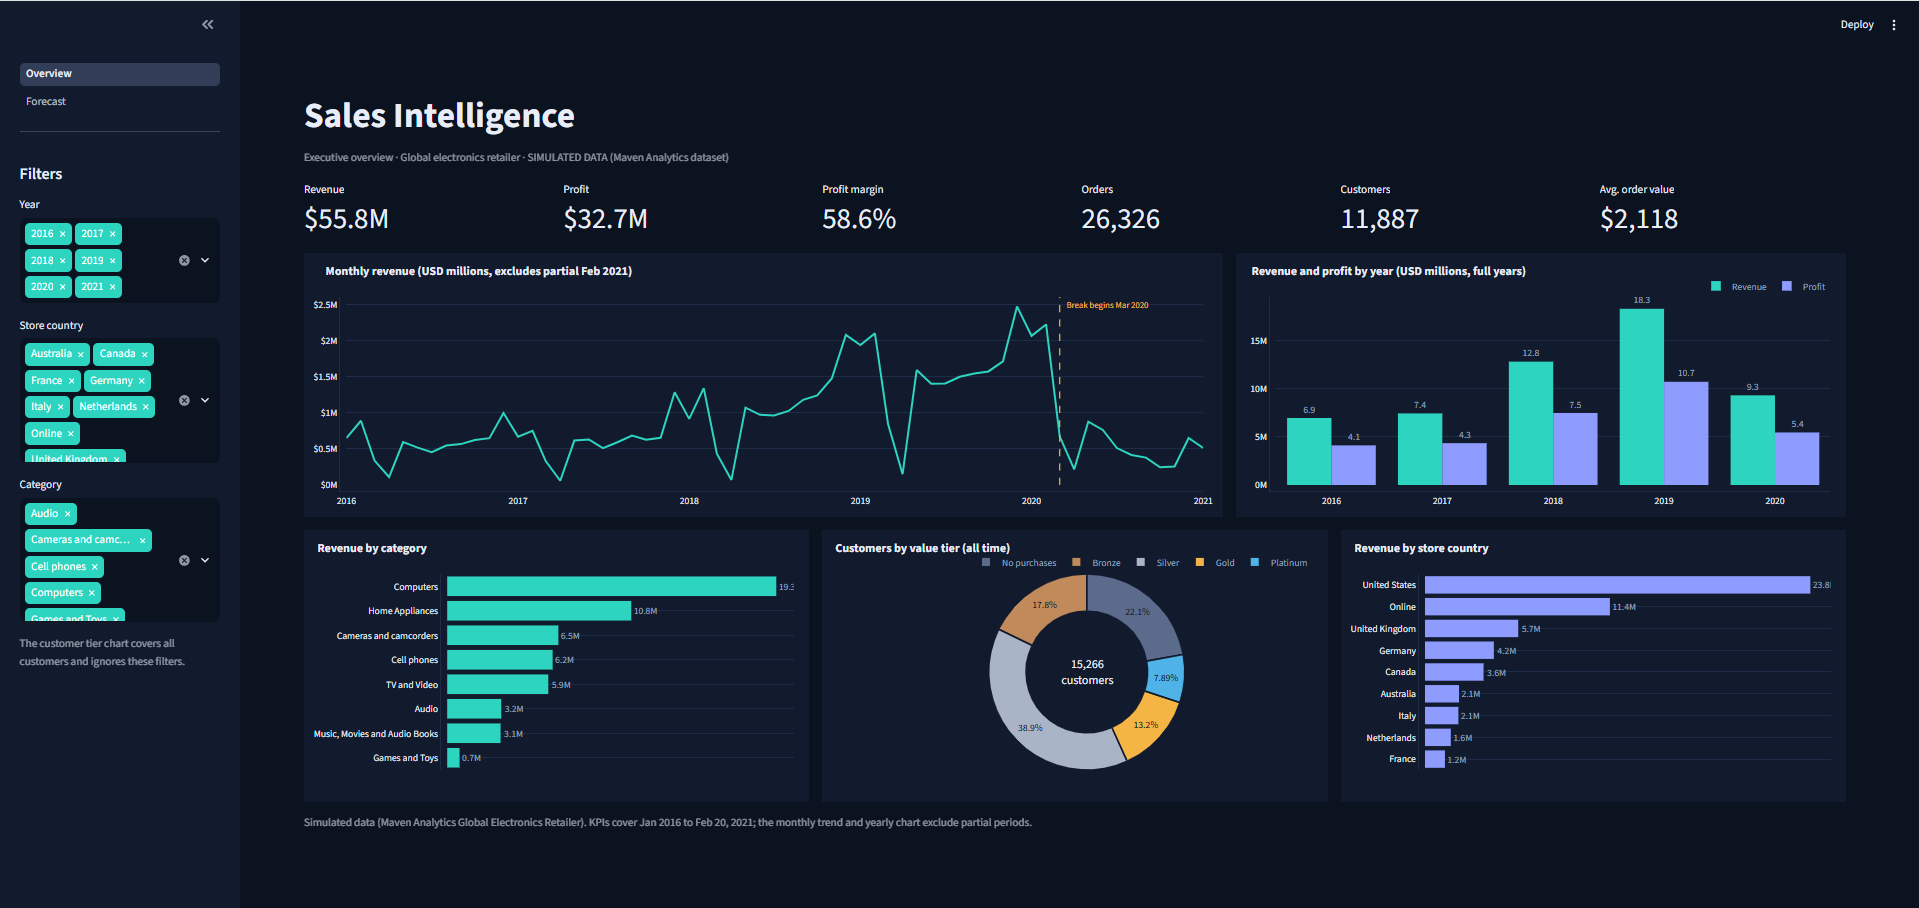

This screenshot's page, from the dashboard's own definition file:
{"tool":"powerbi","page":{"name":" Executive overview","canvas":[1280,720],"ordinal":0},"visuals":[{"type":"textbox","box":[23.8,16.2,520,56.2],"z":0},{"type":"shape","box":[548,30,152,28],"z":1000},{"type":"listSlicer","fields":{"Values":["dim_date.year"]},"box":[924,24,150,40],"z":2000},{"type":"listSlicer","fields":{"Values":["dim_stores.country"]},"box":[1086,24,170,40],"z":3000},{"type":"cardVisual","fields":{"Data":["fact_sales.Revenue"]},"box":[24,88,192,96],"z":4000},{"type":"cardVisual","fields":{"Data":["fact_sales.Profit"]},"box":[232,88,192,96],"z":5000},{"type":"cardVisual","fields":{"Data":["fact_sales.Margin %"]},"box":[440,88,192,96],"z":6000},{"type":"cardVisual","fields":{"Data":["fact_sales.Customers card"]},"box":[856,88,192,96],"z":7000},{"type":"cardVisual","fields":{"Data":["fact_sales.Avg order value card"]},"box":[1064,88,192,96],"z":8000},{"type":"cardVisual","fields":{"Data":["fact_sales.Orders card"]},"box":[648,88,192,96],"z":9000},{"type":"lineChart","title":"Monthly revenue","fields":{"Category":["dim_date.Month start"],"Y":["fact_sales.Revenue"]},"box":[24,200,760,296],"z":10000},{"type":"clusteredColumnChart","title":"Revenue and profit by year","fields":{"Category":["dim_date.year"],"Y":["fact_sales.Revenue","fact_sales.Profit"]},"box":[800,200,456,296],"z":11000},{"type":"clusteredBarChart","title":"Revenue by category","fields":{"Category":["dim_products.category"],"Y":["fact_sales.Revenue"]},"box":[24,512,400,184],"z":12000},{"type":"clusteredBarChart","title":"Revenue by store country","fields":{"Category":["dim_stores.country"],"Y":["fact_sales.Revenue"]},"box":[856,512,400,184],"z":13000},{"type":"donutChart","title":"Customers by value tier · all time","fields":{"Category":["customer_segments.value_tier"],"Y":["Count(customer_segments.customer_key)"]},"box":[440,512,400,184],"z":14000},{"type":"textbox","box":[24,700,1000,16],"z":15000}]}

Visuals, with their boxes on the page's 1280x720 design canvas (x1, y1, x2, y2). These are canvas units, not pixel positions in the 1919x908 screenshot, which may show the page scaled, cropped or inside an application window:
textbox: [left=24, top=16, right=544, bottom=72]
shape: [left=548, top=30, right=700, bottom=58]
listSlicer - dim_date.year: [left=924, top=24, right=1074, bottom=64]
listSlicer - dim_stores.country: [left=1086, top=24, right=1256, bottom=64]
cardVisual - fact_sales.Revenue: [left=24, top=88, right=216, bottom=184]
cardVisual - fact_sales.Profit: [left=232, top=88, right=424, bottom=184]
cardVisual - fact_sales.Margin %: [left=440, top=88, right=632, bottom=184]
cardVisual - fact_sales.Customers card: [left=856, top=88, right=1048, bottom=184]
cardVisual - fact_sales.Avg order value card: [left=1064, top=88, right=1256, bottom=184]
cardVisual - fact_sales.Orders card: [left=648, top=88, right=840, bottom=184]
"Monthly revenue" lineChart: [left=24, top=200, right=784, bottom=496]
"Revenue and profit by year" clusteredColumnChart: [left=800, top=200, right=1256, bottom=496]
"Revenue by category" clusteredBarChart: [left=24, top=512, right=424, bottom=696]
"Revenue by store country" clusteredBarChart: [left=856, top=512, right=1256, bottom=696]
"Customers by value tier · all time" donutChart: [left=440, top=512, right=840, bottom=696]
textbox: [left=24, top=700, right=1024, bottom=716]
